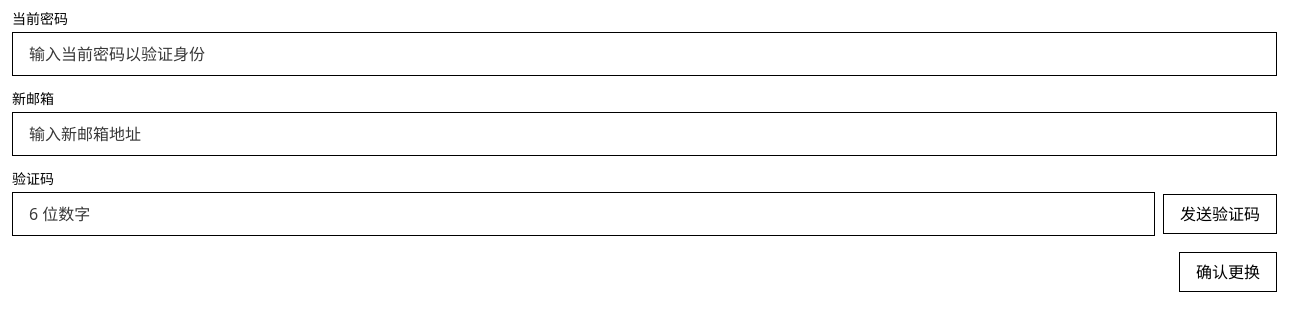
ChangeEmailForm › 请求结果不明时允许填写可能已收到的验证码并进入冷却
Type "CurrentPass123" into the password field with id "change-old-password" at point(644, 54), box [12,32,1277,76]
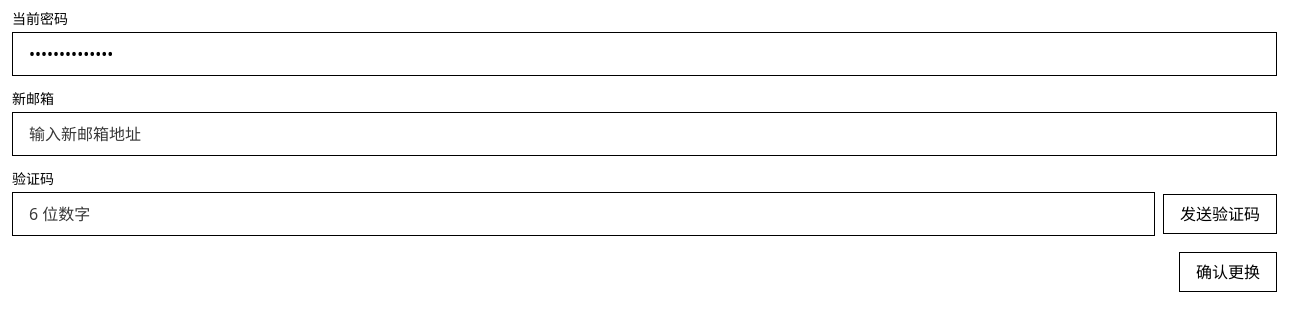
Type "new@example.com" into the field with id "new-email" at point(644, 134), box [12,112,1277,156]
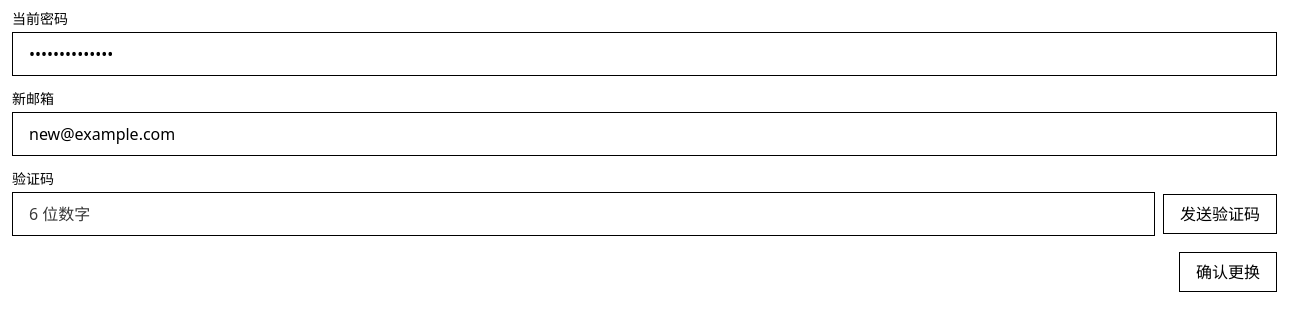
Click the button "发送验证码" at point(1220, 214), box [1163,194,1277,234]
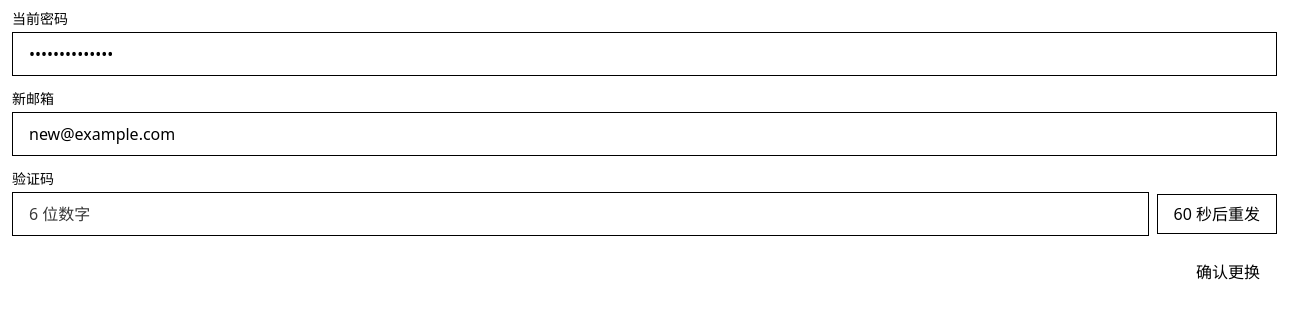
Expected: the button "确认更换" is enabled, [1179,252,1277,292]
Expected: the button "60 秒后重发" is disabled, [1156,194,1277,234]
